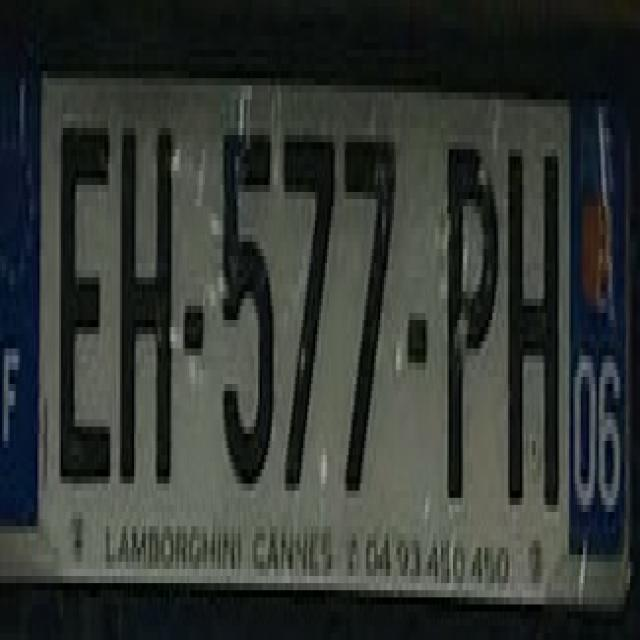EU: (1, 75, 637, 611)
France: (0, 85, 39, 528)
